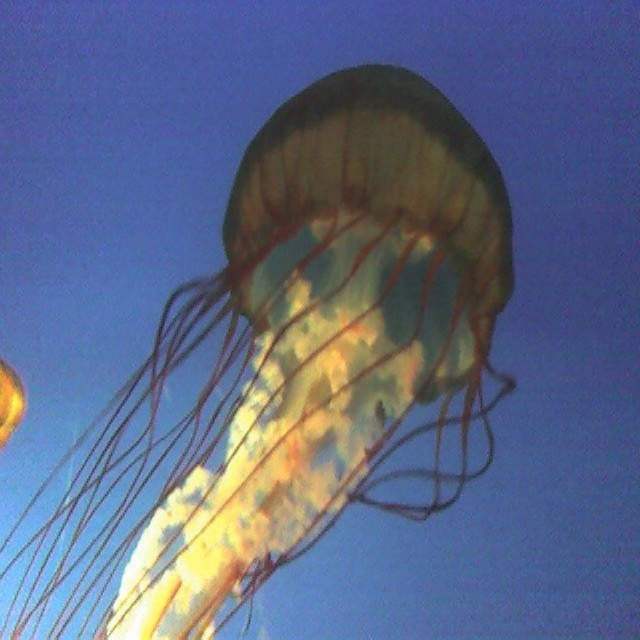Jellyfish: (0, 59, 518, 639)
